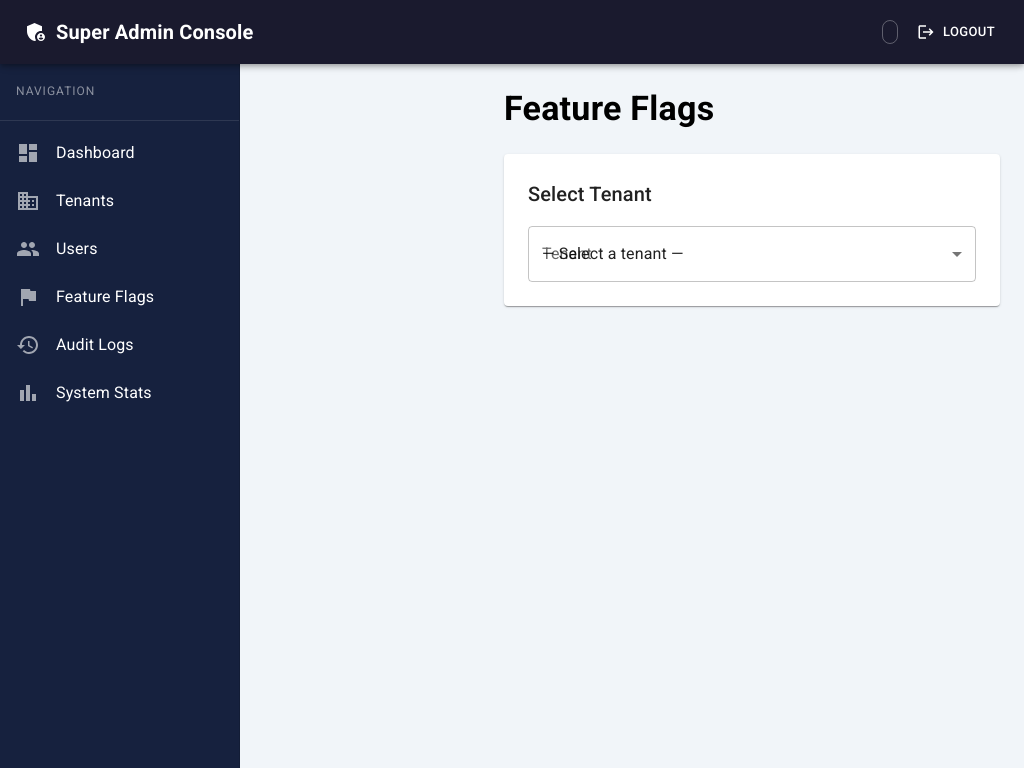
Test case: FeatureFlags page › loads and shows flags after tenant selected
Select "Acme Corp" in the dropdown at (752, 254), box 528,226 -> 976,282
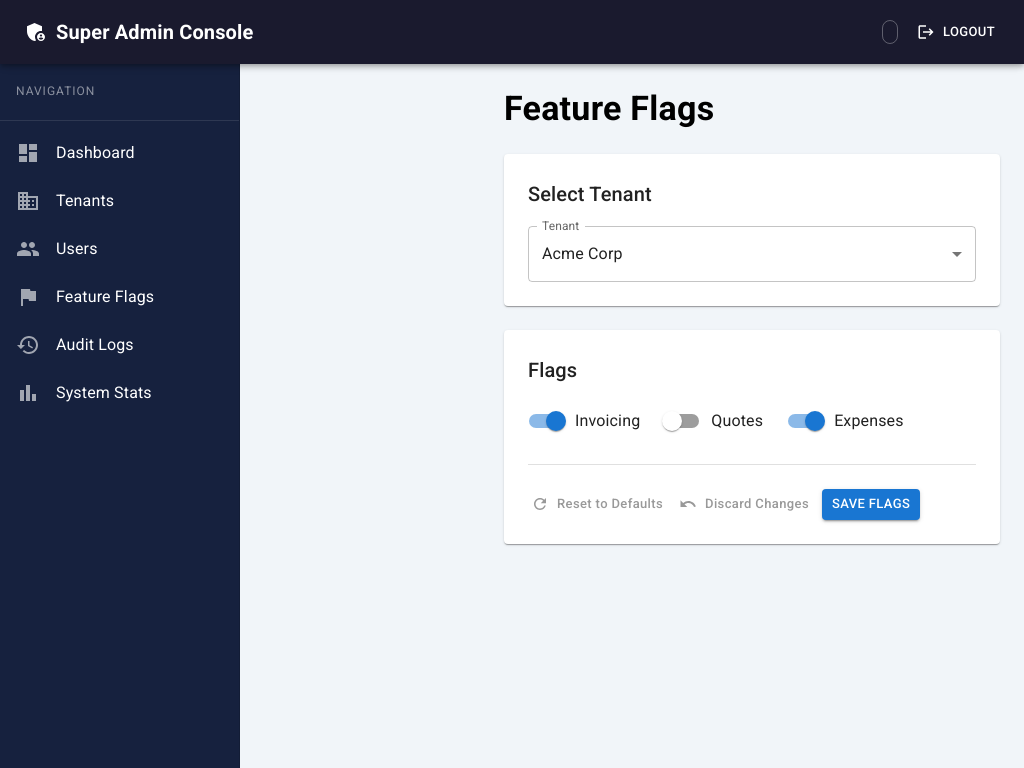
Result: the button "Save Flags" is shown at 822,489 -> 920,520
